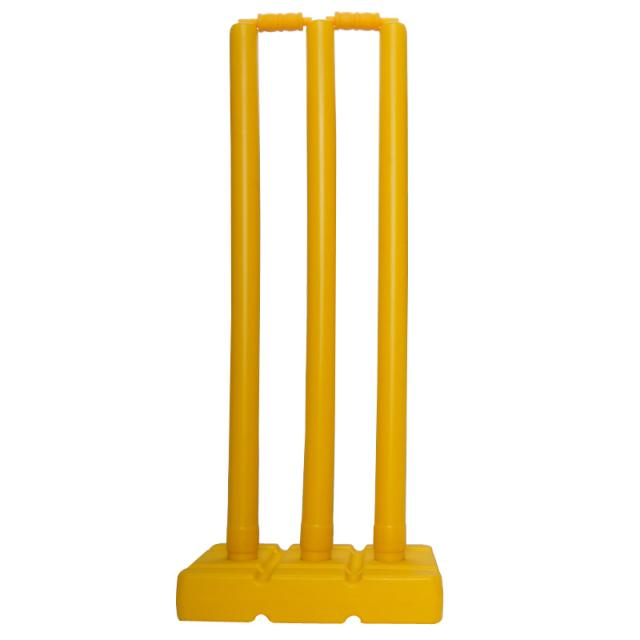stump: (223, 6, 407, 564)
